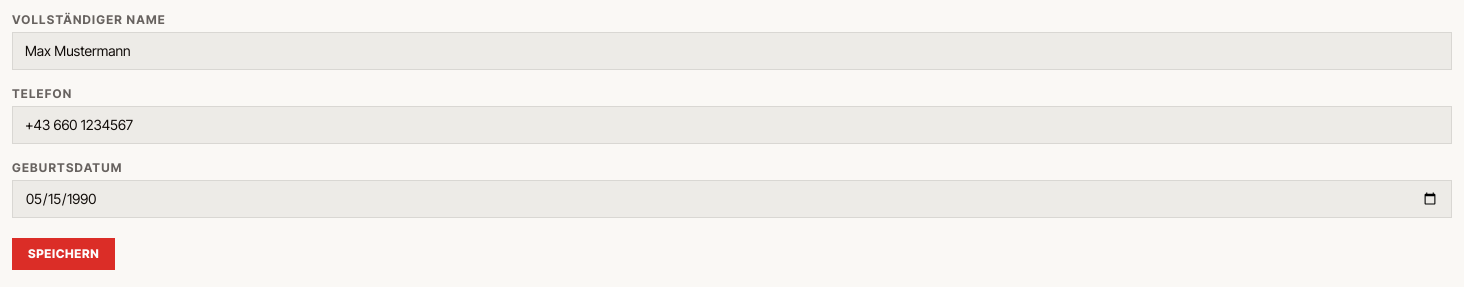
Test: ProfileForm › shows error message on failed submit
The width and height of the screenshot is (1464, 287).
What coordinates should you click on to do the following:
click the button "Speichern"
I would click on:
 (64, 254)
Its box is [12, 238, 115, 270].
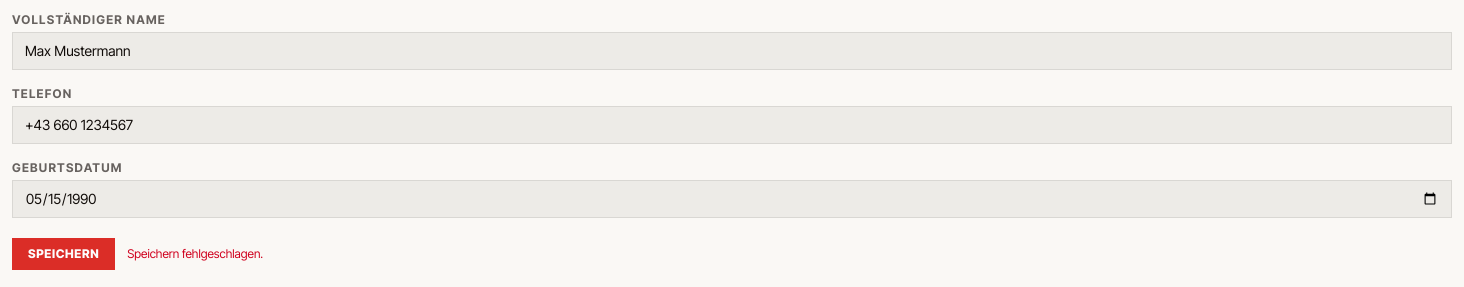
Result: the text "Speichern fehlgeschlagen." is shown at [127, 246, 263, 262]
